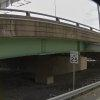Bridge: (2, 3, 96, 73)
